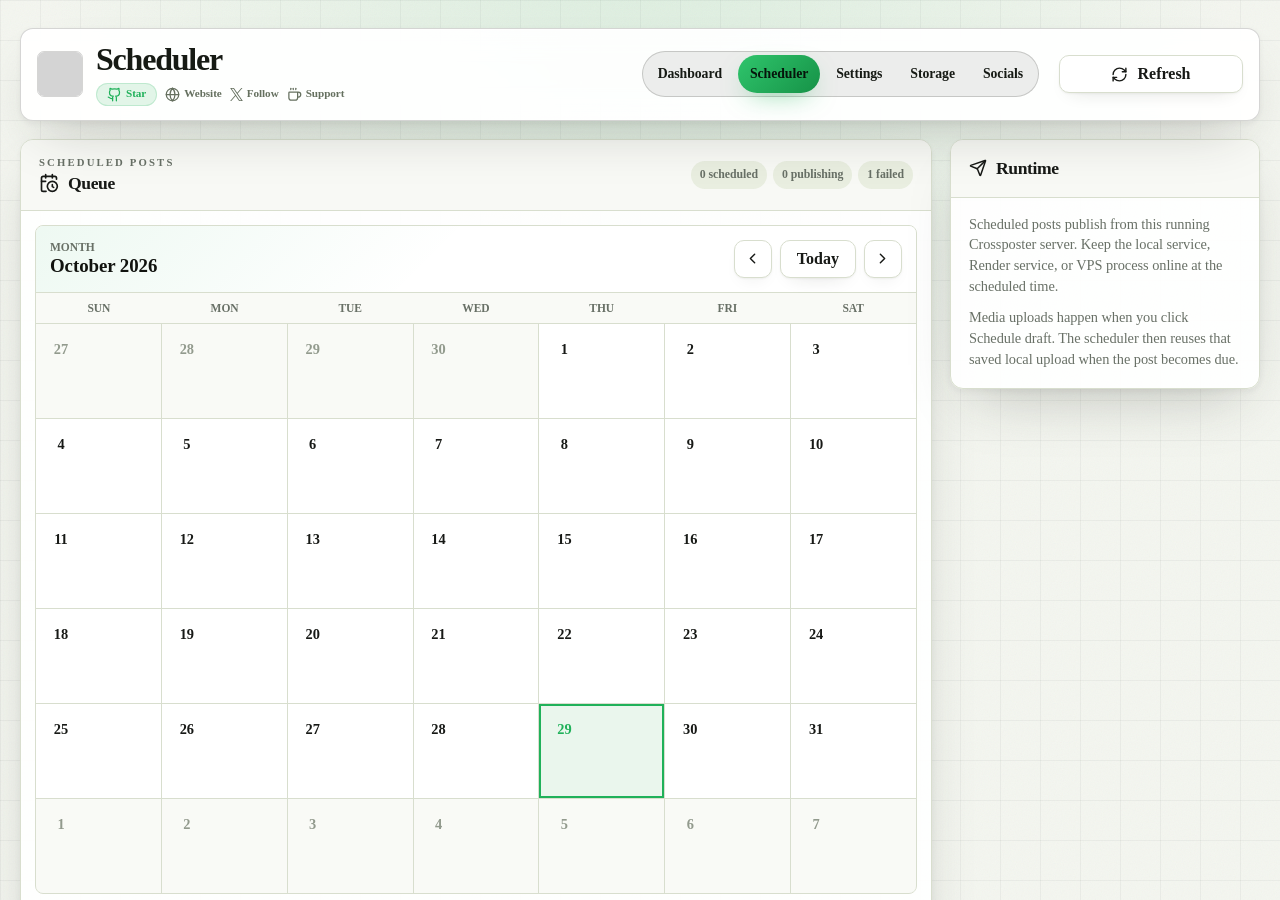
groups 2026-12-31T23:30:00.000Z on its browser-local day and submits the original instant
What coordinates should you click on to do the following:
click the button named "Next month"
I would click on:
 (883, 259)
Its box is 864,240 -> 902,278.
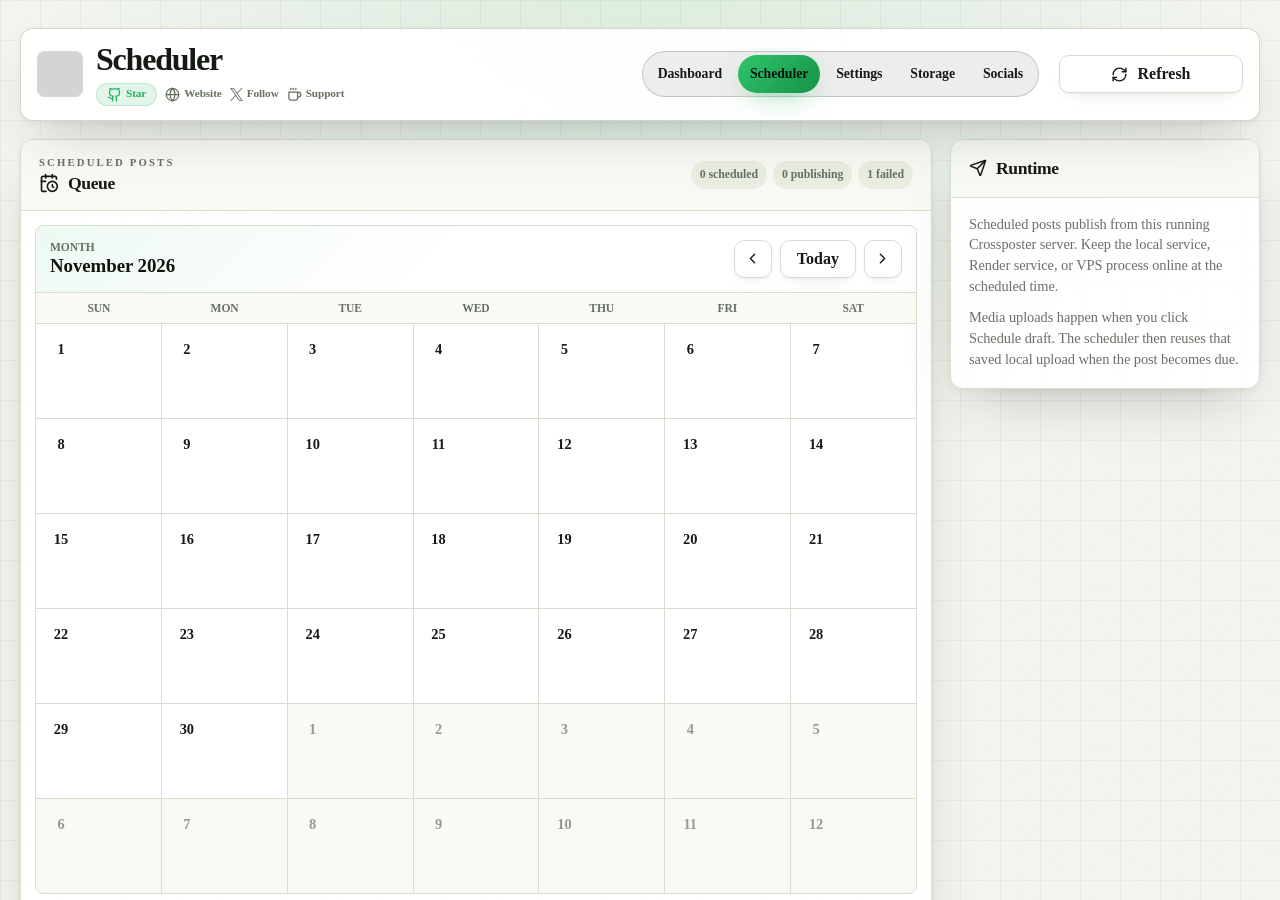
What coordinates should you click on to do the following:
click the button named "Next month"
I would click on:
 (883, 259)
Its box is 864,240 -> 902,278.
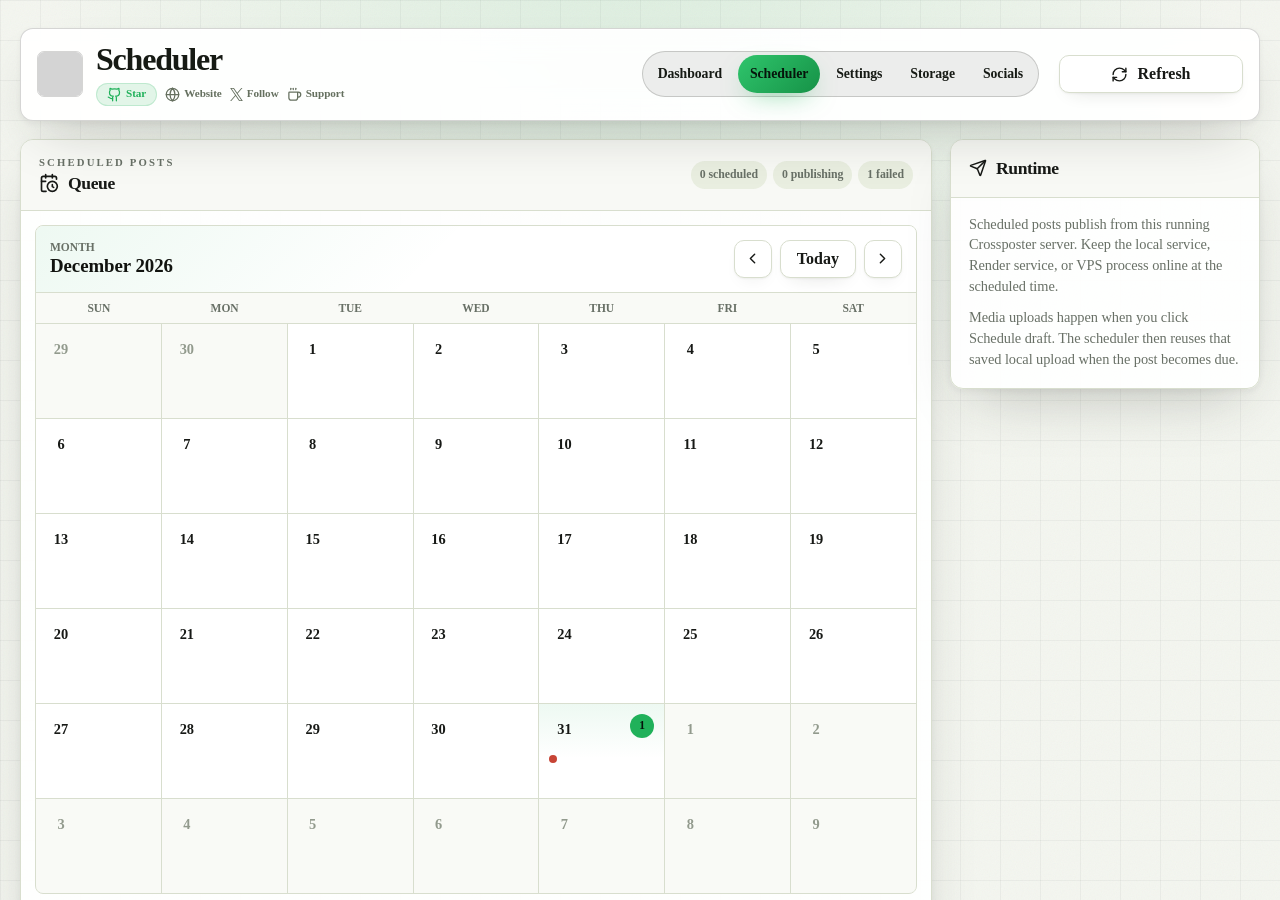
What coordinates should you click on to do the following:
click the button "31 1"
I would click on:
 (602, 751)
Its box is 539,704 -> 664,798.
(page scrolled)
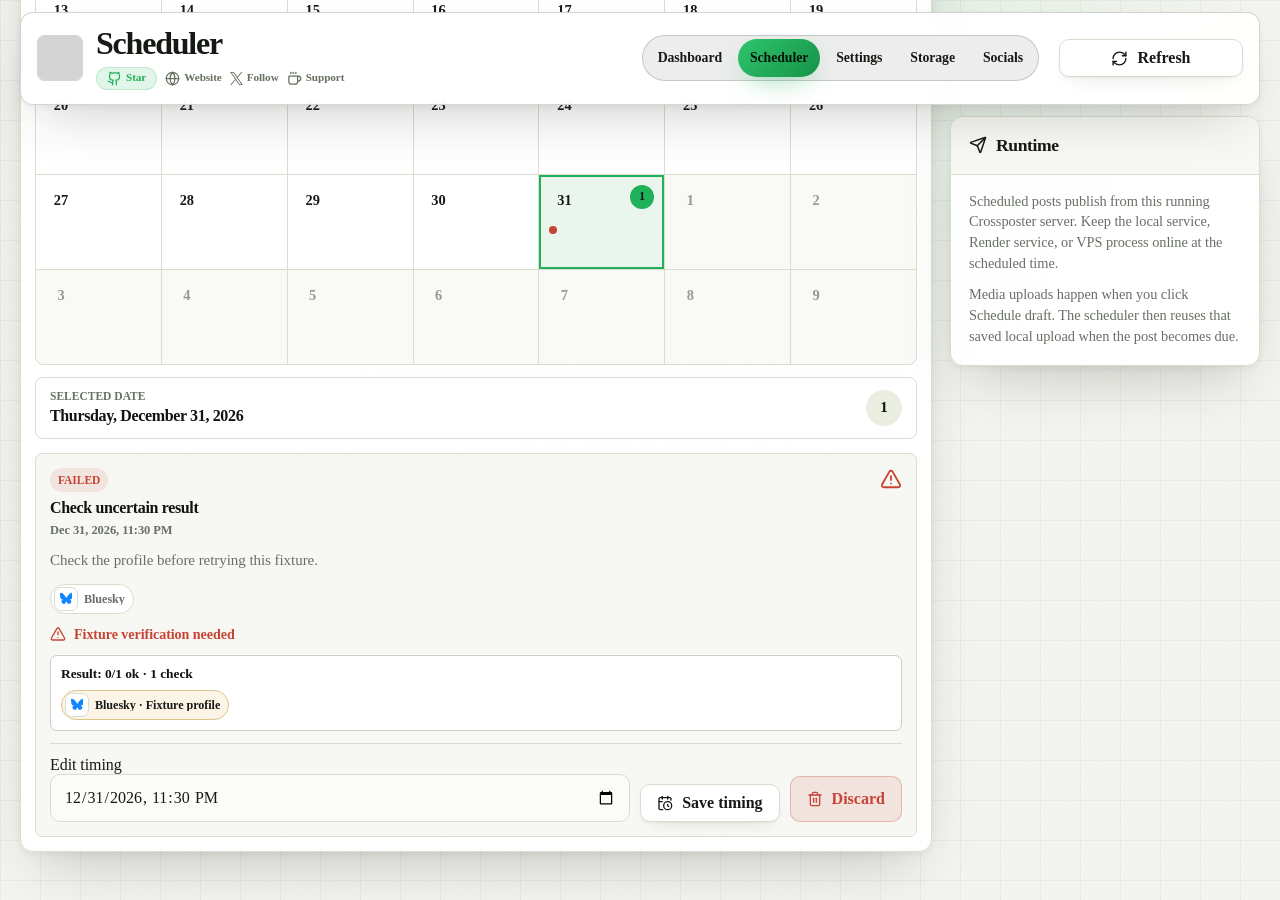
What coordinates should you click on to do the following:
click the button "Save timing"
I would click on:
 (710, 803)
Its box is 640,784 -> 780,822.
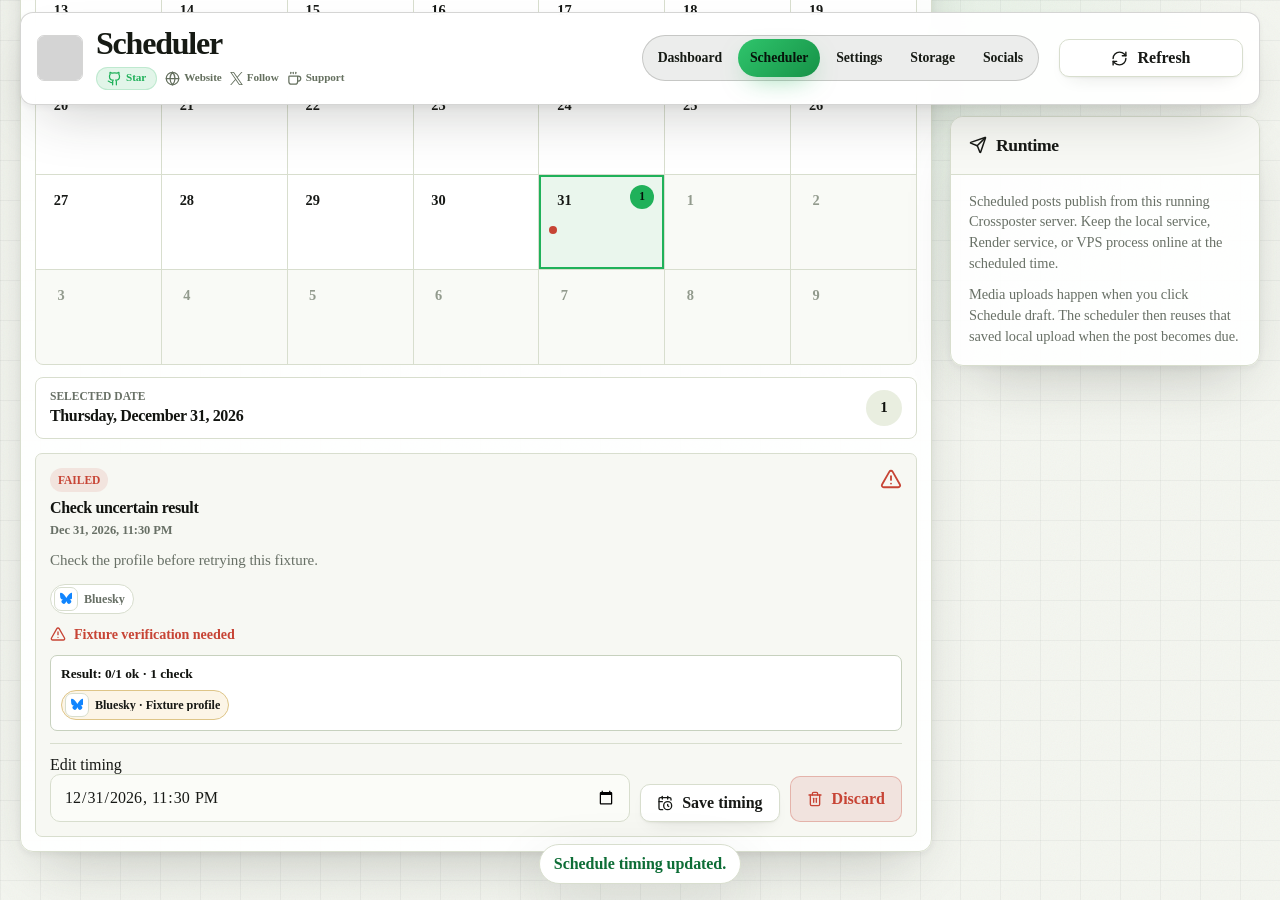
expect the text "Schedule timing updated." is shown: met, box 539,844 -> 741,884
